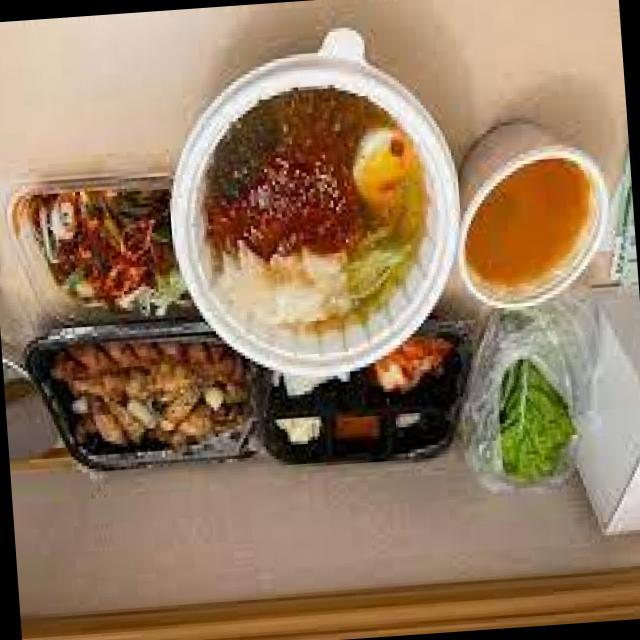plastic-bowl: (168, 16, 460, 379), (16, 315, 265, 481), (268, 312, 488, 462), (457, 113, 617, 311), (0, 175, 203, 327)
plastic-wrapper: (454, 280, 607, 499)
